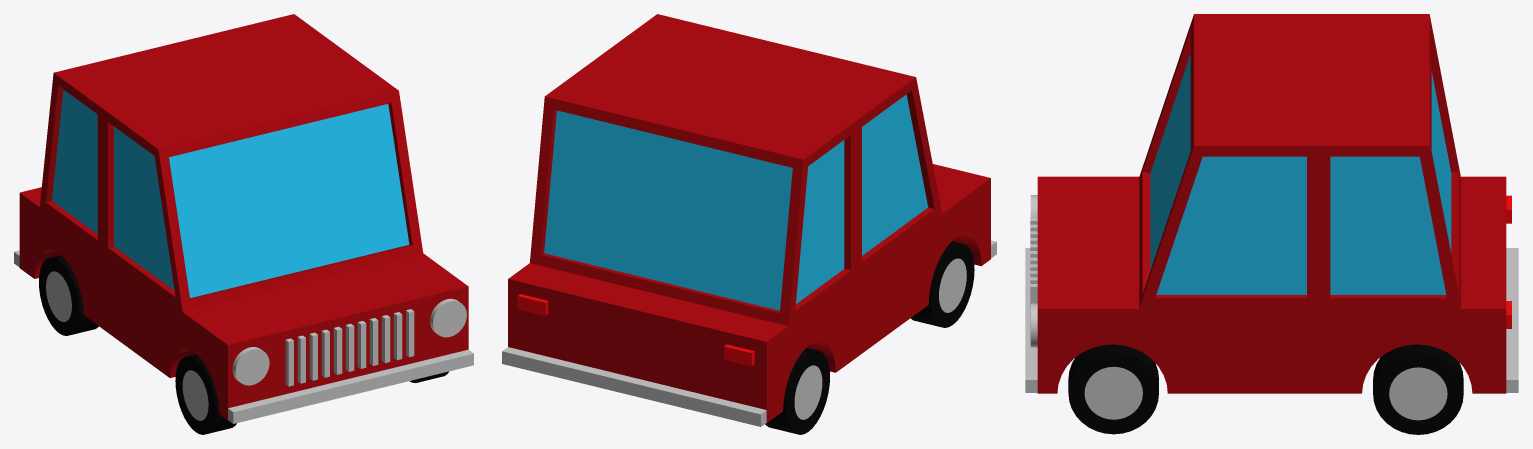
Rendered from car.obj.
The picture shows the model from 3 angles, left to right: view 1: azimuth 30°, elevation 25°; view 2: azimuth 150°, elevation 25°; view 3: azimuth 270°, elevation 25°; orthographic projection. The views are drawn at different scales.
Visible parts, largest first — view 1: Body, Wheels, Grille, Bumpers, Front Lights; view 2: Body, Wheels, Bumpers, Back Lights; view 3: Body, Wheels, Bumpers, Grille, Front Lights.
Part boxes in pixels (bbox=[...]): Body: bbox=[19, 14, 468, 420]; Wheels: bbox=[39, 255, 448, 434]; Grille: bbox=[285, 309, 414, 386]; Bumpers: bbox=[14, 250, 473, 423]; Front Lights: bbox=[232, 298, 466, 385]; Body: bbox=[508, 14, 990, 423]; Wheels: bbox=[765, 241, 974, 434]; Bumpers: bbox=[502, 240, 996, 426]; Back Lights: bbox=[517, 294, 754, 366]; Body: bbox=[1037, 14, 1506, 393]; Wheels: bbox=[1068, 344, 1463, 434]; Bumpers: bbox=[1025, 248, 1518, 392]; Grille: bbox=[1030, 218, 1037, 336]; Front Lights: bbox=[1030, 195, 1037, 347].
Size of the model in its own units: 4 by 4.08 by 6.32.
